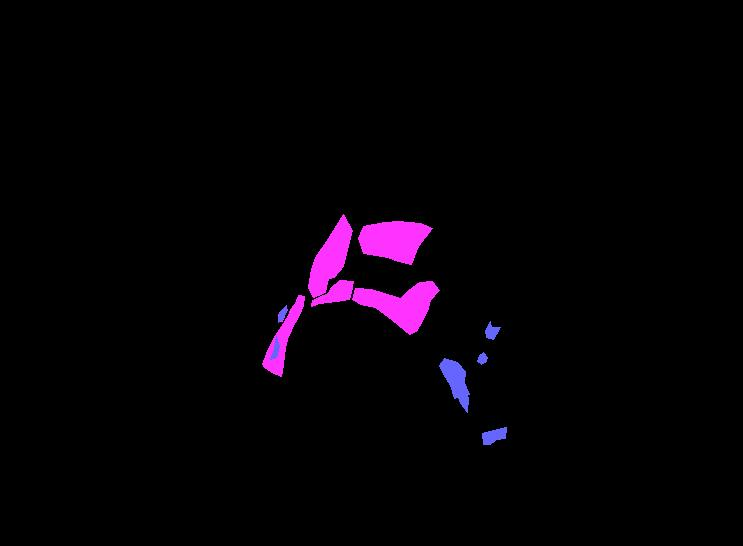Dent: (352, 281, 439, 334), (308, 214, 352, 297), (262, 295, 304, 376), (358, 221, 432, 264), (311, 280, 353, 306), (278, 308, 287, 321)
Scratch: (439, 358, 469, 398), (482, 427, 506, 444), (485, 321, 500, 339), (270, 336, 279, 359), (458, 395, 468, 412), (278, 305, 286, 322), (477, 352, 487, 364)
